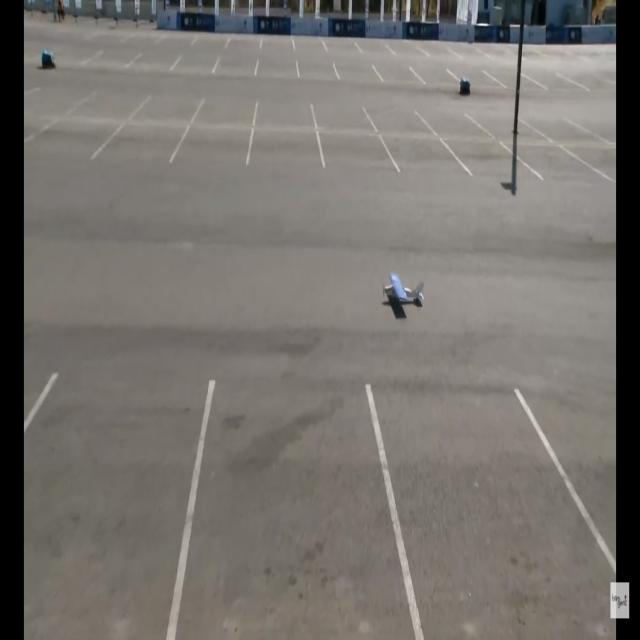iha: (381, 271, 424, 305)
